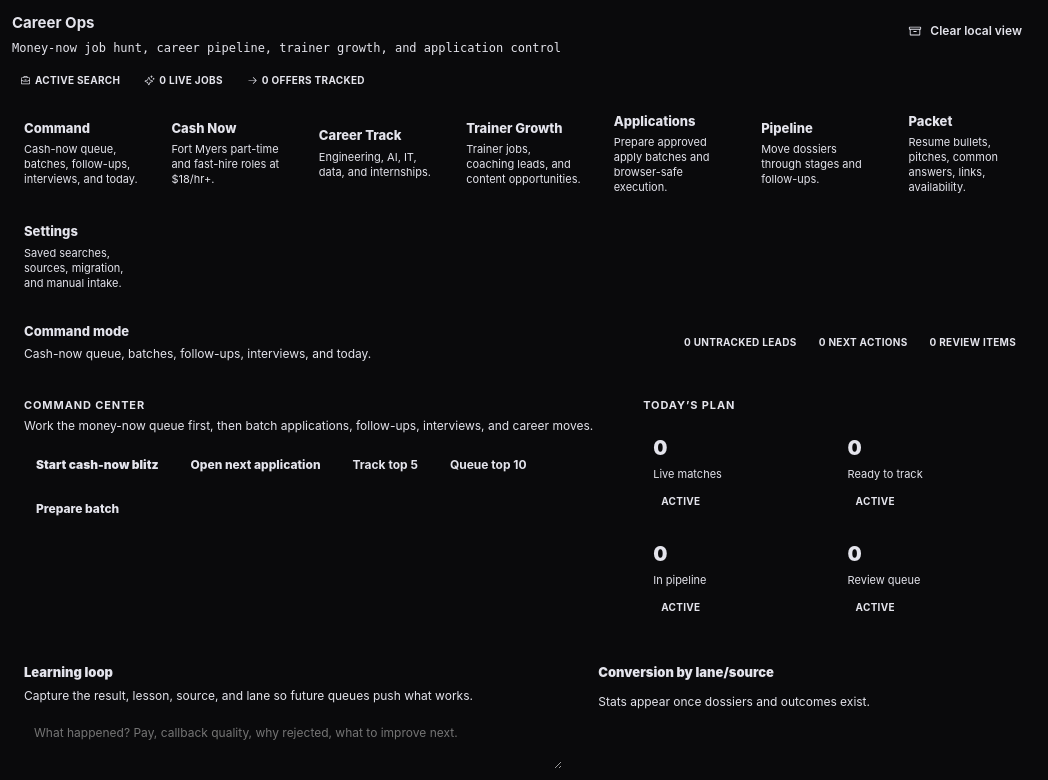
Test: CareerOpsPage › extracts a specific location from the pasted description and replaces the default location
Step 1. Click the button "Settings" → (82,256), box [12, 212, 151, 300]
(page scrolled)
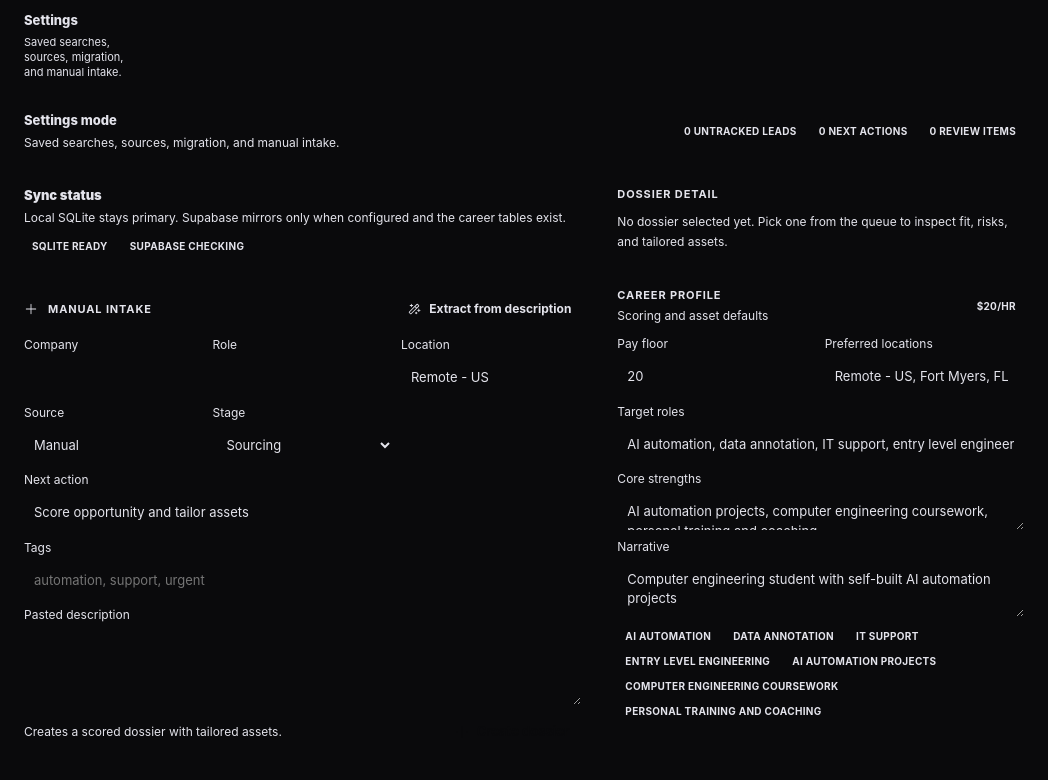
Check: the field labelled "Location" holds "Remote - US", box [401, 360, 581, 396]
Step 2. Type "Role: Support Specialist. Location: Austin, TX. Handle ticketing and onsite device setup." into the text box labelled "Pasted description" → (303,668), box [24, 630, 581, 705]
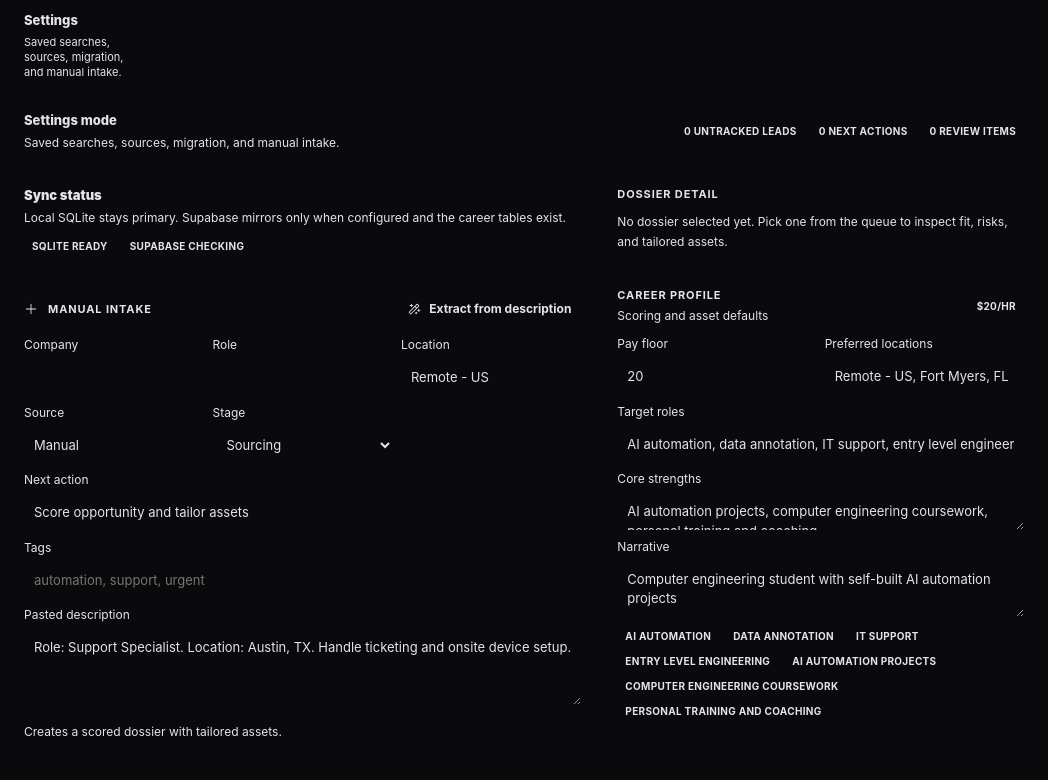
Step 3. Click the button "Extract from description" → (489,309), box [397, 292, 581, 326]
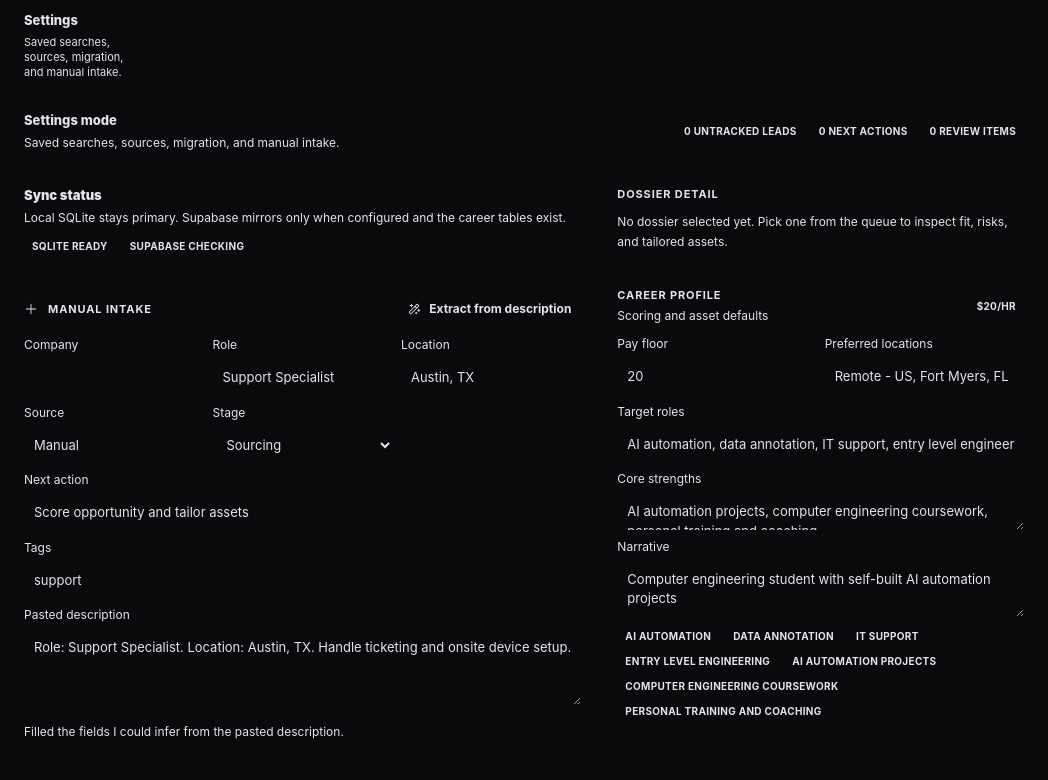
Check: the field labelled "Location" holds "Austin, TX", box [401, 360, 581, 396]
